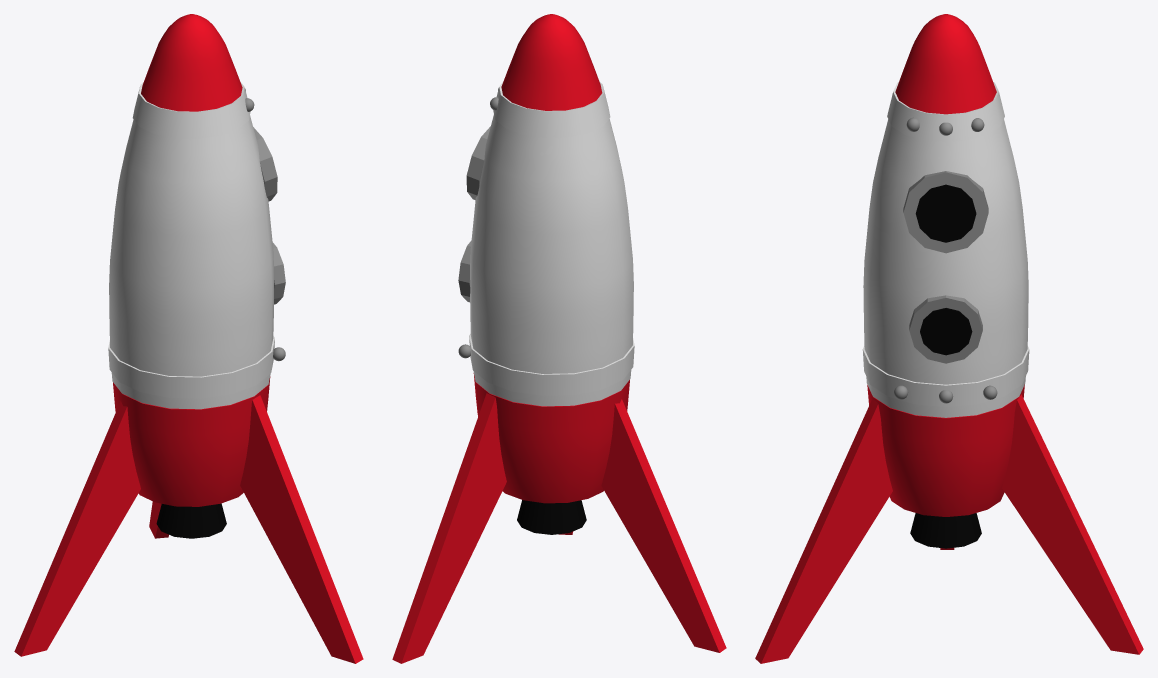
Rendered from NaveEspacial.fbx.
3 renders of one model, left to right at view 1: azimuth 30°, elevation 25°; view 2: azimuth 150°, elevation 25°; view 3: azimuth 270°, elevation 25°, orthographic. The views are drawn at different scales.
Visible parts, largest first — view 1: RocketBody, RocketBottom, Base, Base2, RocketTop, Exhaust, WindowRim, WindowRIm2; view 2: RocketBody, RocketBottom, Base2, Base1, RocketTop, Exhaust, WindowRim, WindowRIm2; view 3: RocketBody, RocketBottom, Base1, Base, RocketTop, WindowRim, Window, WindowRIm2, Exhaust, Window2.
Part boxes in pixels (x1,y1,x2,y2): RocketBody: (108,82,274,409); RocketBottom: (113,376,270,506); Base: (240,395,363,663); Base2: (14,401,140,656); RocketTop: (141,14,242,111); Exhaust: (156,503,226,538); WindowRim: (253,127,277,201); WindowRIm2: (272,242,285,304); RocketBody: (469,81,634,406); RocketBottom: (473,373,629,503); Base2: (601,399,726,652); Base1: (392,393,506,663); RocketTop: (501,14,602,110); Exhaust: (517,500,586,534); WindowRim: (466,126,490,200); WindowRIm2: (458,240,471,302); RocketBody: (862,82,1029,417); RocketBottom: (867,384,1024,516); Base1: (1002,394,1143,654); Base: (755,398,892,663); RocketTop: (895,14,996,114); WindowRim: (903,171,988,253); Window: (915,184,976,242); WindowRIm2: (909,295,982,363); Exhaust: (910,513,981,548); Window2: (920,308,972,355).
Bounding box in the file's own units: 318 × 713 × 413.
